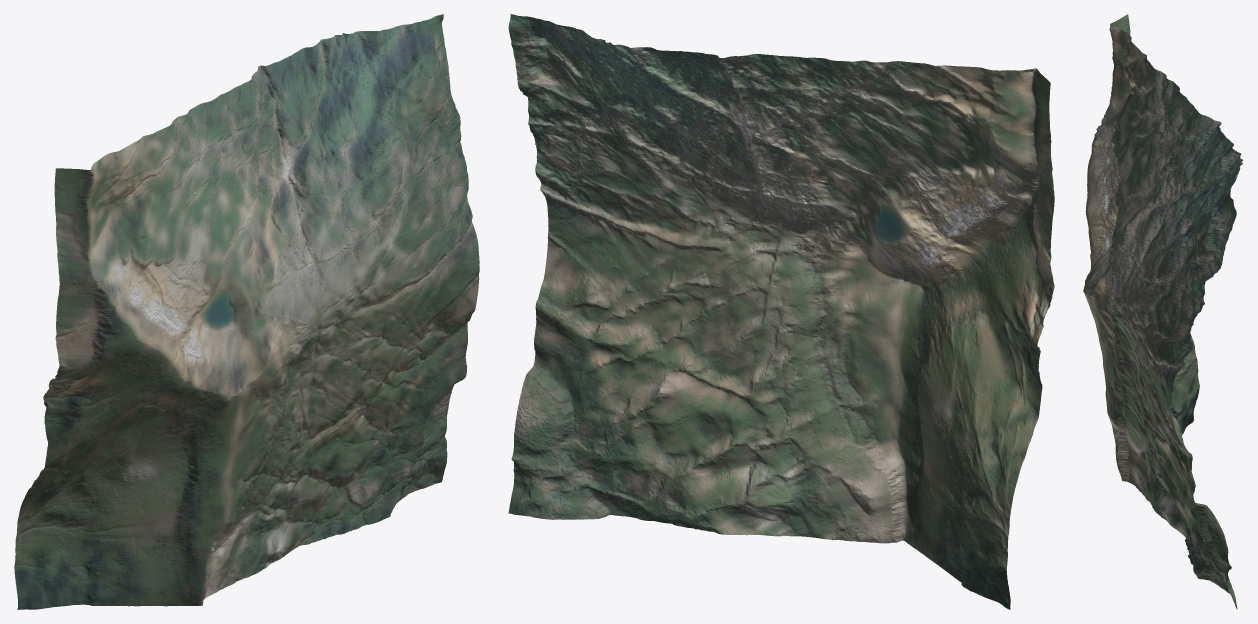
The model's file is terrain_s2_draped.glb.
3 views of the same model, side by side, from view 1: azimuth 30°, elevation 25°; view 2: azimuth 150°, elevation 25°; view 3: azimuth 270°, elevation 25° (orthographic). The views are drawn at different scales.
Visible parts, largest first — view 1: geometry_0; view 2: geometry_0; view 3: geometry_0.
Part boxes in pixels (x1,y1,x2,y2): geometry_0: (14,14,479,609); geometry_0: (508,14,1054,609); geometry_0: (1083,14,1242,609).
Bounding box in the file's own units: 1396 × 1396 × 499.
